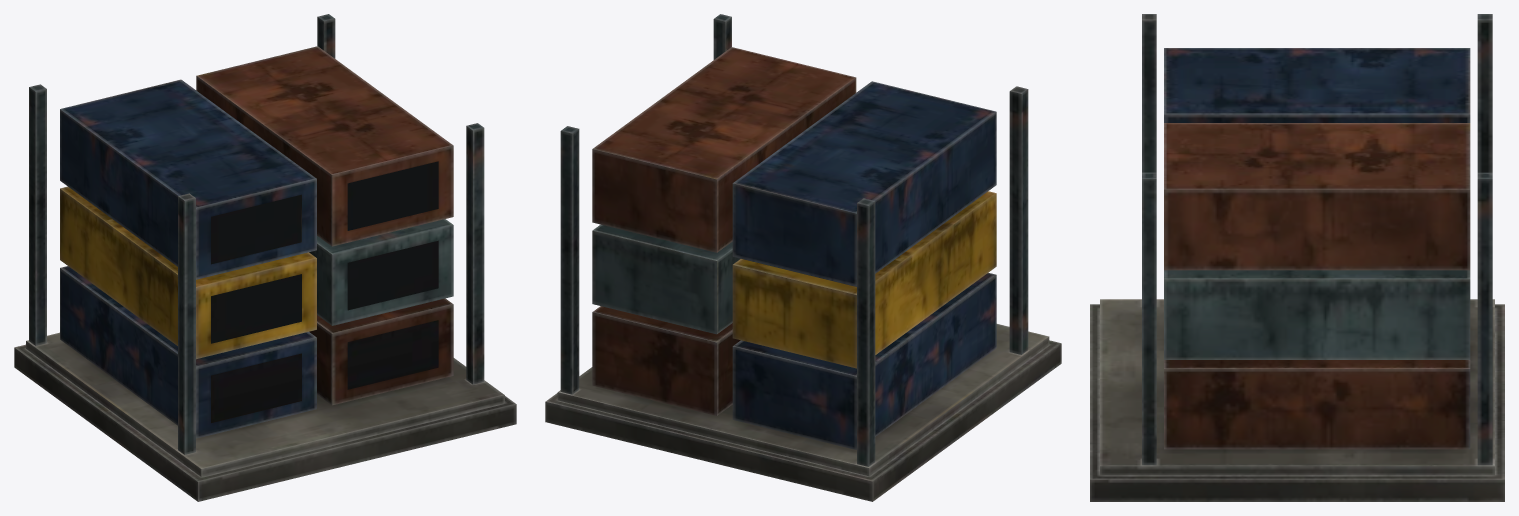
Rendered from large_storage.glb.
3 views of the same model, side by side, from view 1: azimuth 30°, elevation 25°; view 2: azimuth 150°, elevation 25°; view 3: azimuth 270°, elevation 25° (orthographic). The views are drawn at different scales.
Parts seen in each view (by area): view 1: te_large_storage; view 2: te_large_storage; view 3: te_large_storage.
Part boxes in pixels (box(x1,y1,x2,y2)): te_large_storage: box(14, 14, 516, 501); te_large_storage: box(545, 14, 1061, 501); te_large_storage: box(1090, 14, 1504, 501).
Bounding box in the file's own units: 0.84 × 0.71 × 0.84.
Materials: 1 (1 with a texture image).
